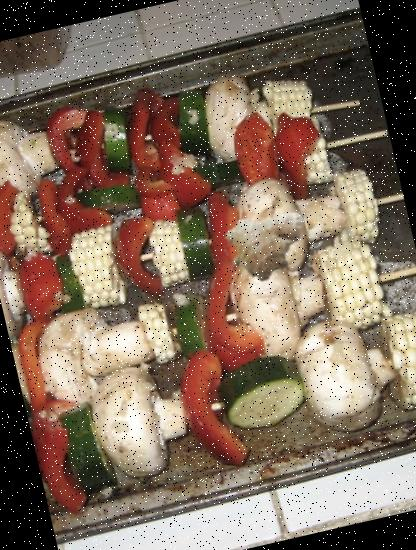Ginger: (214, 186, 317, 288)
